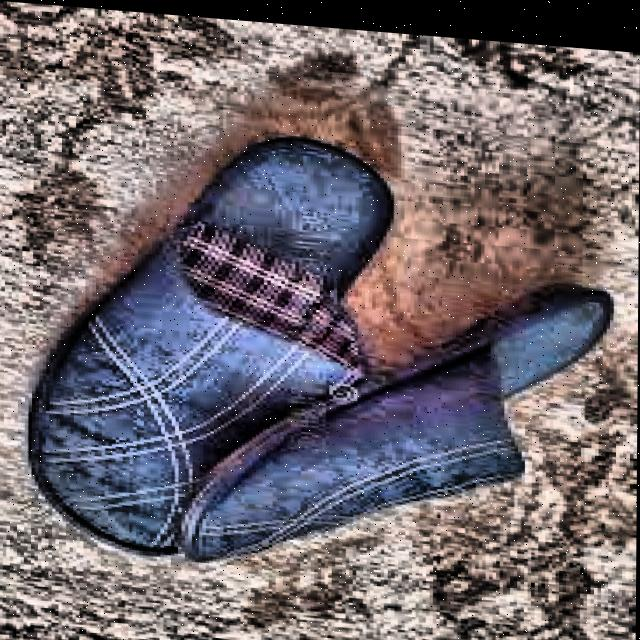shoes: (15, 98, 623, 626)
